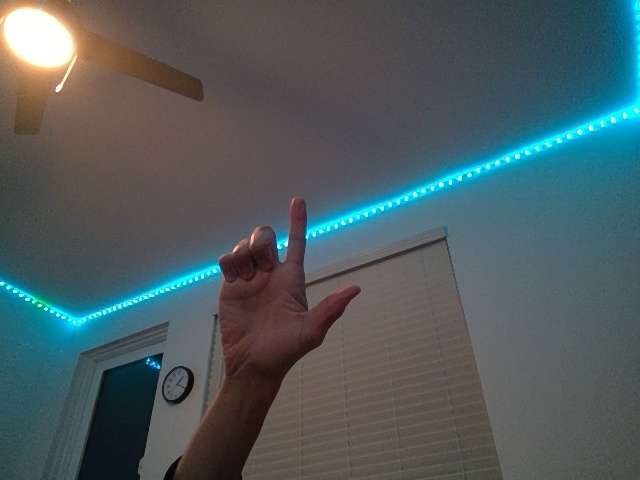l: (211, 194, 362, 394)
